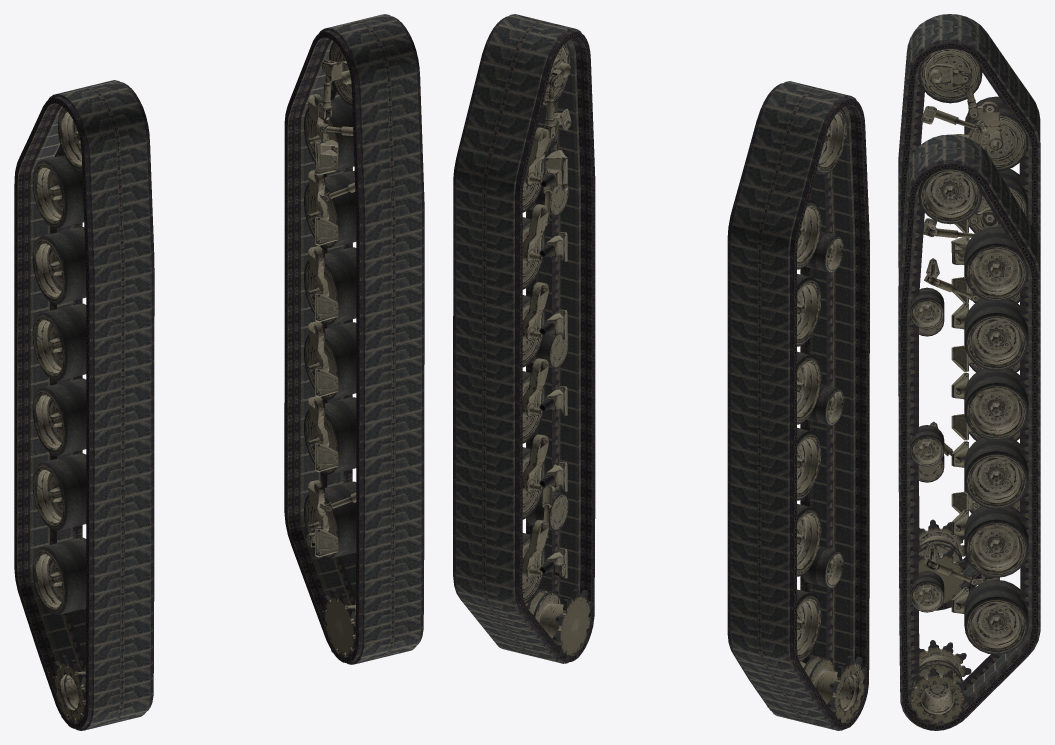
File: Chassis.glb
The picture shows the model from 3 angles, left to right: view 1: azimuth 30°, elevation 25°; view 2: azimuth 150°, elevation 25°; view 3: azimuth 270°, elevation 25°; orthographic projection. The views are drawn at different scales.
Parts seen in each view (by area): view 1: set_0_group_0, set_1_group_0, set_3_group_0, set_2_group_0; view 2: set_0_group_0, set_1_group_0, set_3_group_0, set_2_group_0; view 3: set_3_group_0, set_1_group_0, set_2_group_0, set_0_group_0.
Part boxes in pixels (x1,y1,x2,y2): set_0_group_0: [14, 80, 154, 730]; set_1_group_0: [284, 14, 424, 664]; set_3_group_0: [304, 41, 357, 662]; set_2_group_0: [32, 107, 86, 722]; set_0_group_0: [727, 81, 869, 730]; set_1_group_0: [453, 14, 595, 663]; set_3_group_0: [522, 42, 593, 662]; set_2_group_0: [767, 108, 865, 729]; set_3_group_0: [907, 169, 1028, 727]; set_1_group_0: [898, 134, 1040, 730]; set_2_group_0: [918, 48, 1028, 607]; set_0_group_0: [898, 14, 1040, 610].
Bounding box in the file's own units: 3.64 × 6.49 × 1.47.
4 materials, 4 textured.
